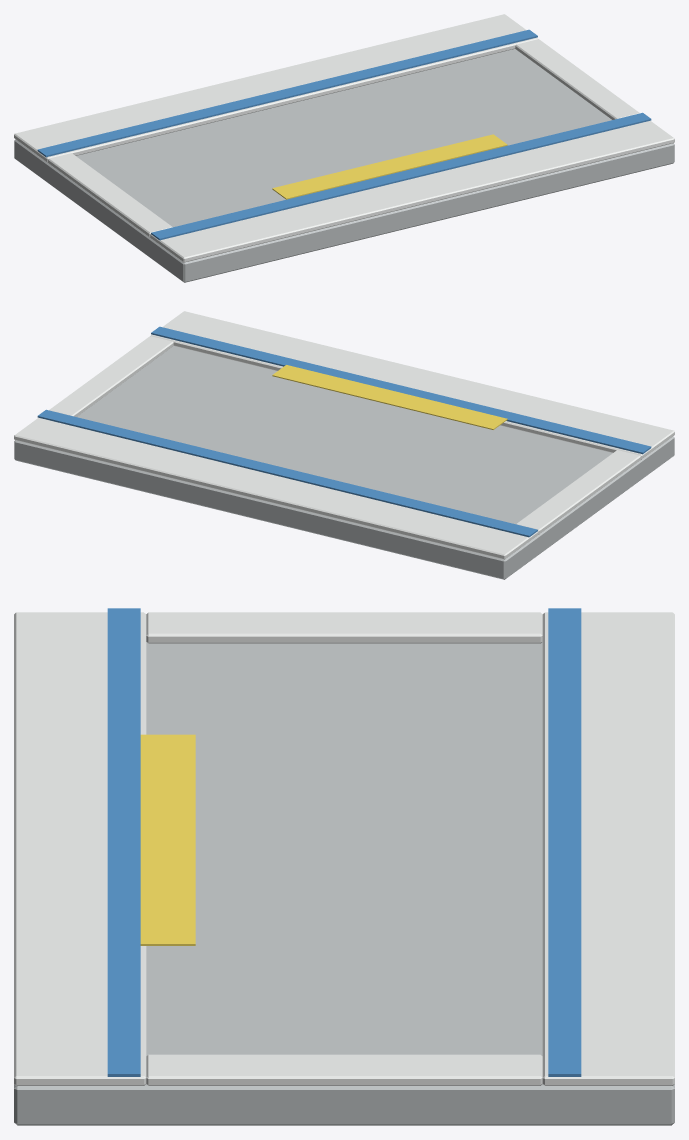
Rendered from public-swimming-baths-and-poolside-footbath-channel-36c43e54__35272.glb.
3 renders of one model, top to bottom at view 1: azimuth 30°, elevation 25°; view 2: azimuth 150°, elevation 25°; view 3: azimuth 270°, elevation 25°, orthographic. The views are drawn at different scales.
Visible parts, largest first — view 1: footbath-channel; view 2: footbath-channel; view 3: footbath-channel.
Part boxes in pixels (box(x1,y1,x2,y2)): footbath-channel: box(14, 14, 674, 282); footbath-channel: box(14, 311, 674, 579); footbath-channel: box(14, 608, 674, 1125).
Size of the model in its own units: 2 by 0.11 by 1.2.
